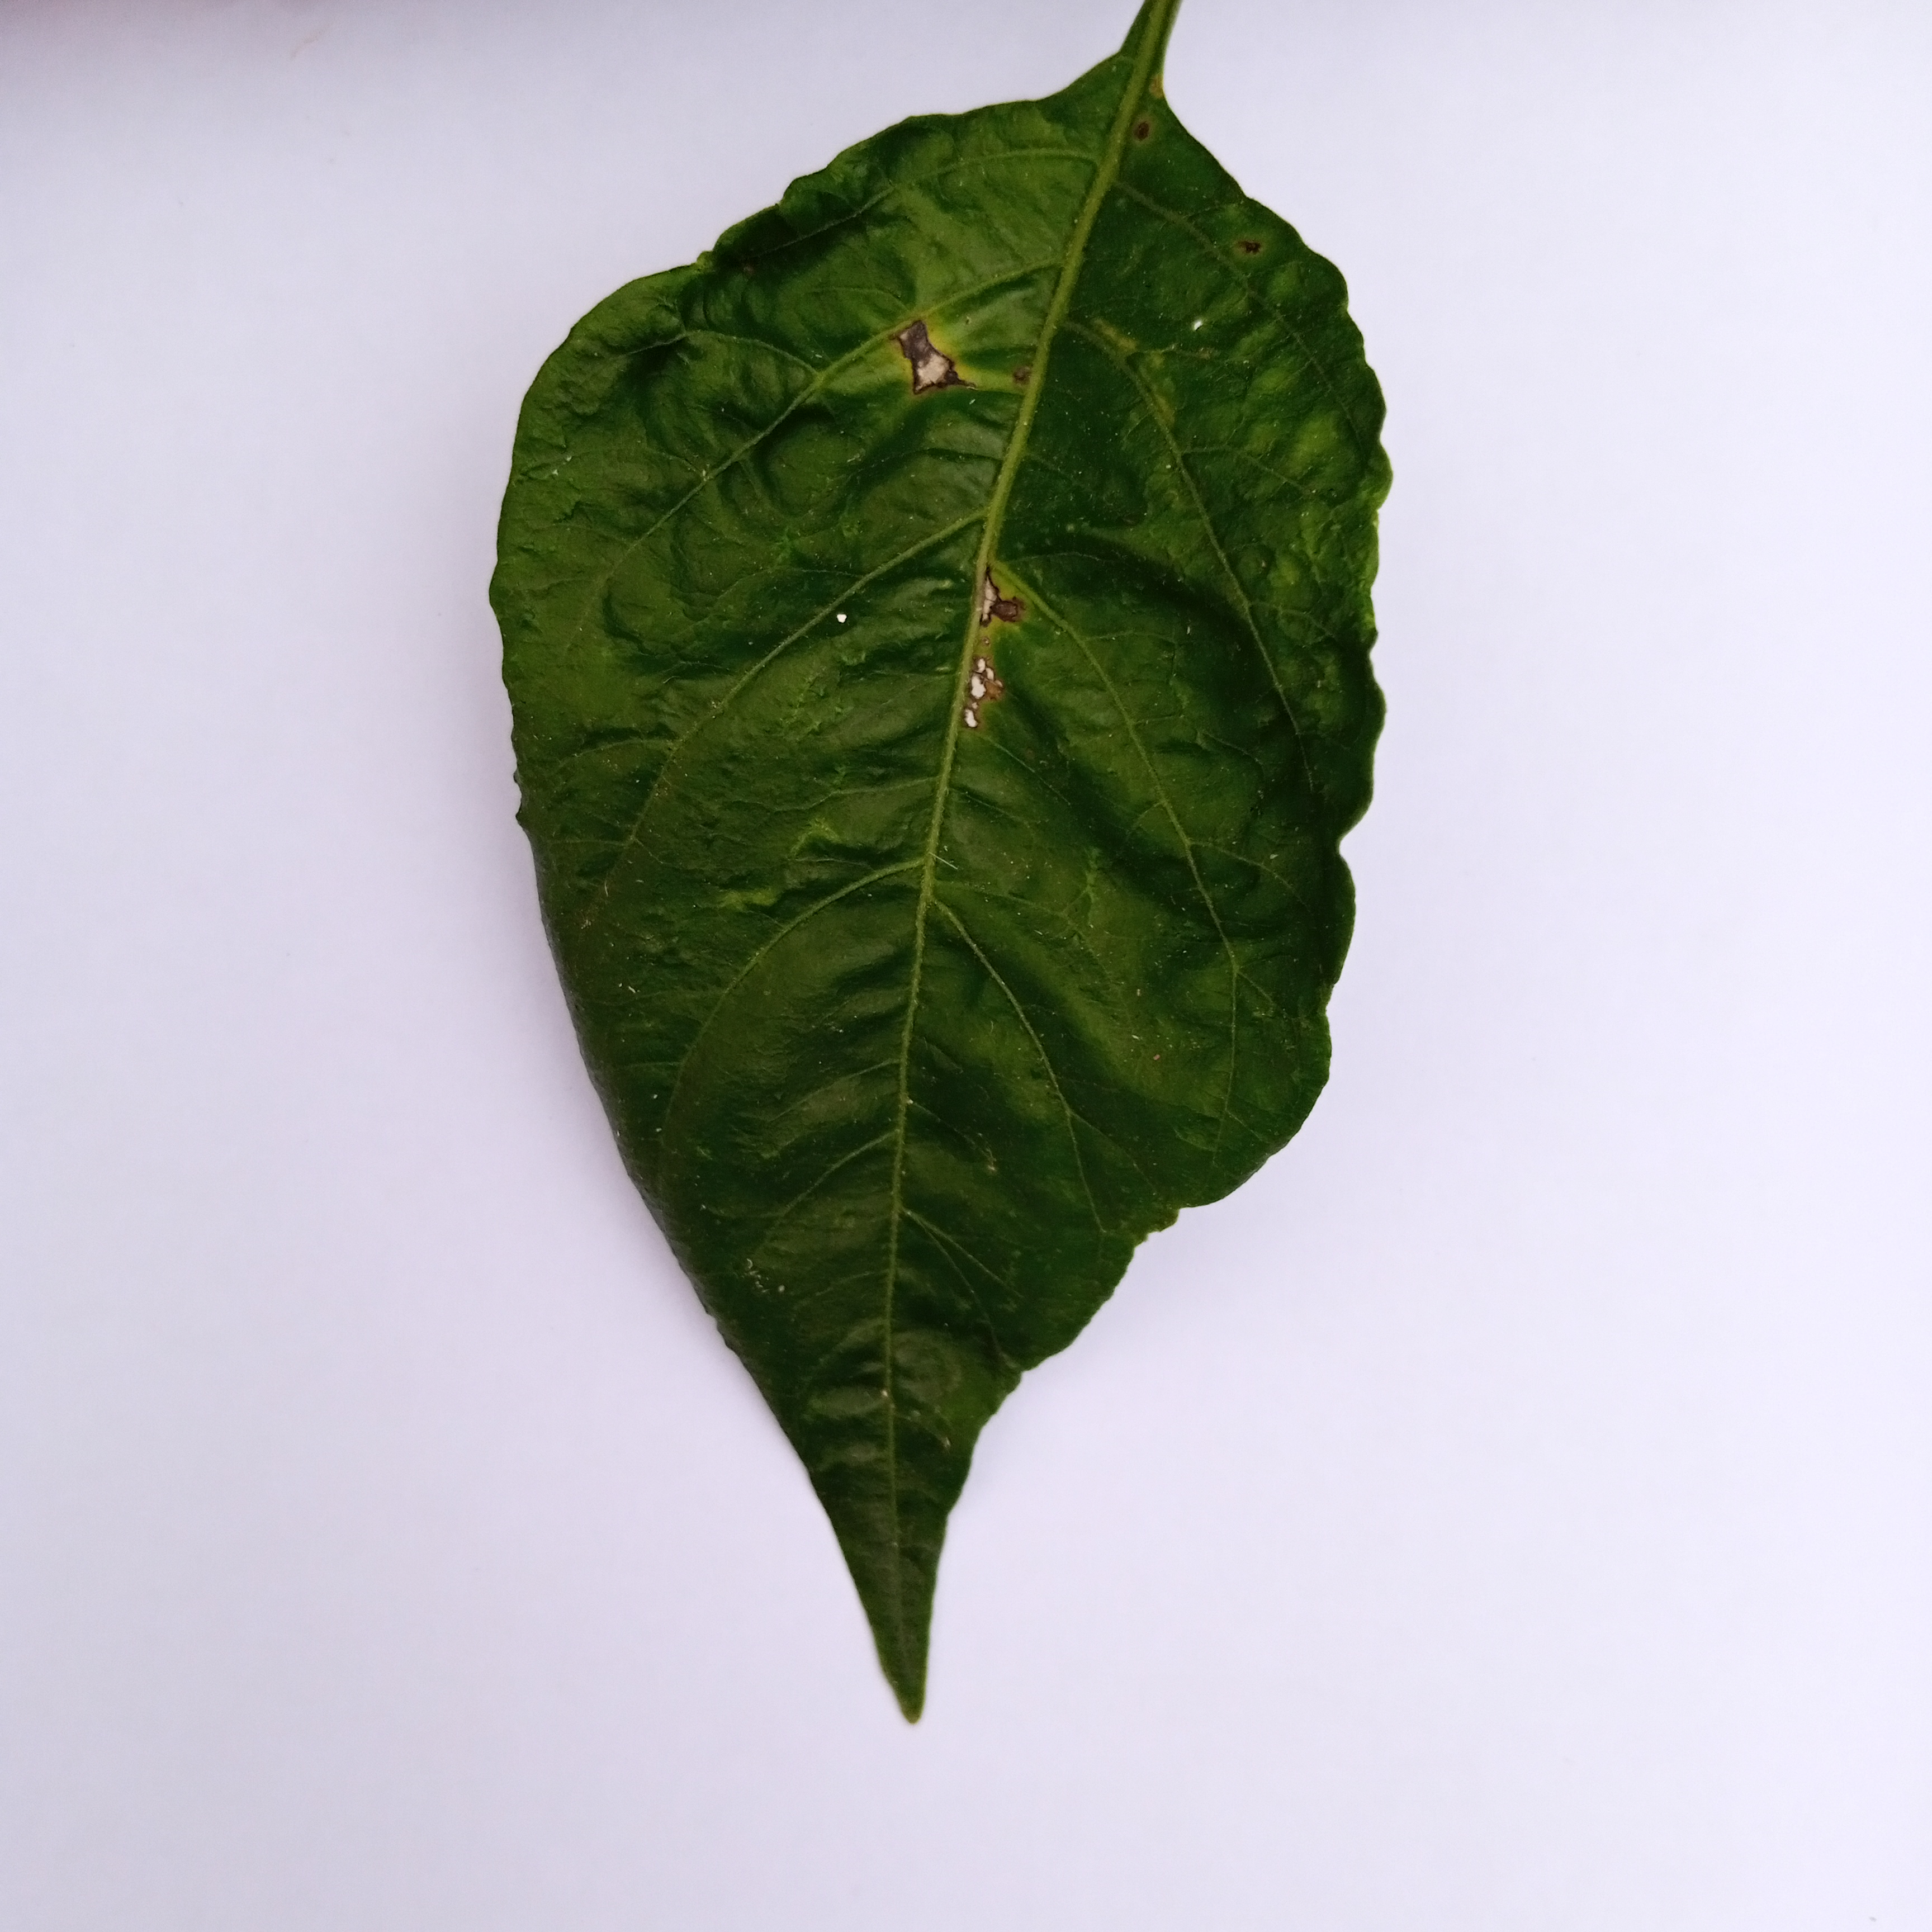Leaf: (391, 65, 1601, 1739)
